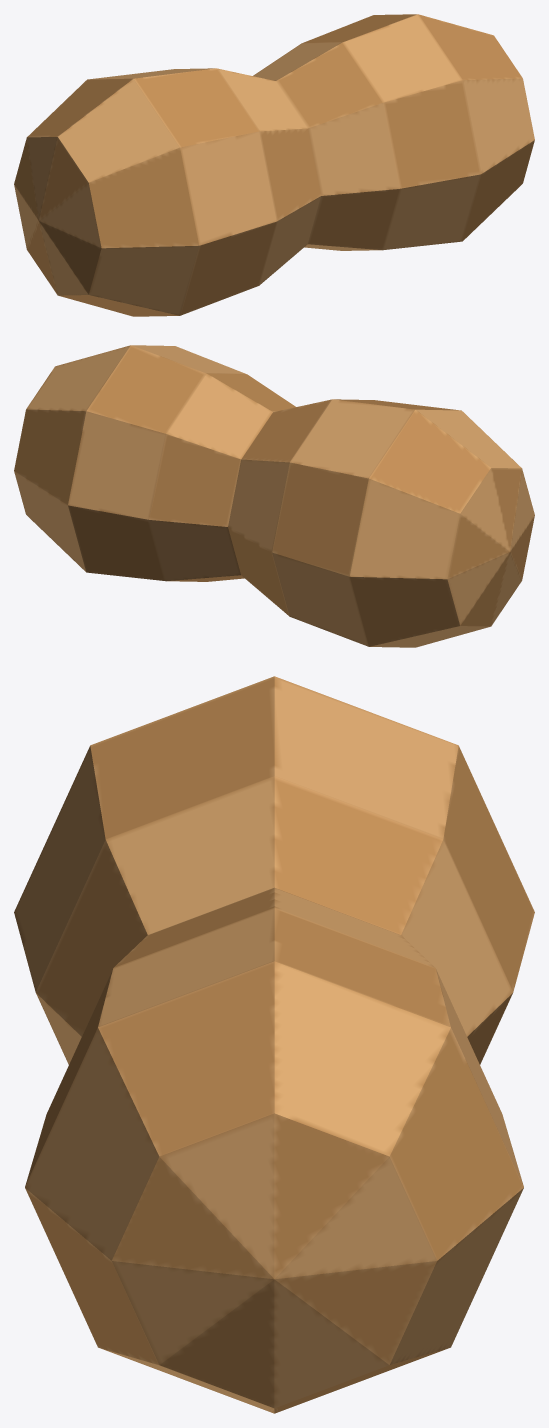
Rendered from Peanut.fbx.
3 views of the same model, one above another, from view 1: azimuth 30°, elevation 25°; view 2: azimuth 150°, elevation 25°; view 3: azimuth 270°, elevation 25° (orthographic). The views are drawn at different scales.
Parts seen in each view (by area): view 1: Peanut; view 2: Peanut; view 3: Peanut.
Part boxes in pixels (<box>): Peanut: <box>14,14,534,316</box>; Peanut: <box>14,345,534,647</box>; Peanut: <box>14,676,534,1413</box>.
Size of the model in its own units: 200 by 96 by 96.
1 material, 1 textured.
